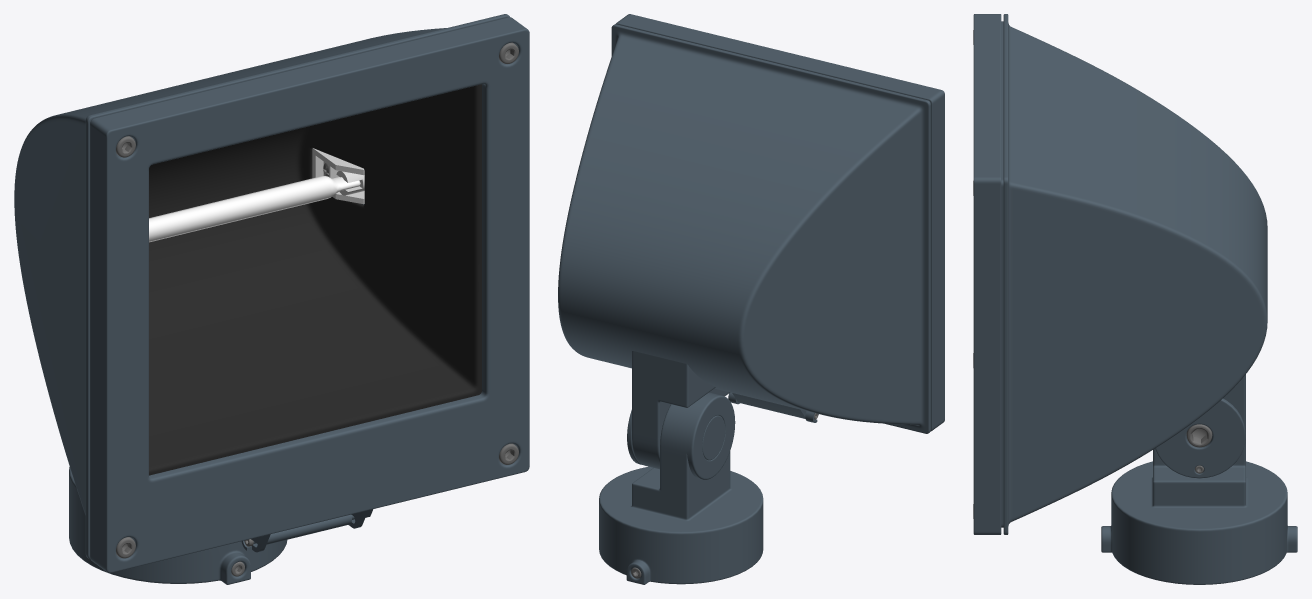
3 views of the same model, side by side, from view 1: azimuth 30°, elevation 25°; view 2: azimuth 150°, elevation 25°; view 3: azimuth 270°, elevation 25° (orthographic). The views are drawn at different scales.
Visible parts, largest first — view 1: body, base; view 2: body, base; view 3: body, base.
Part boxes in pixels (box(x1,y1,x2,y2)): body: box(14, 14, 529, 573); base: box(69, 467, 287, 584); body: box(558, 14, 944, 469); base: box(599, 392, 763, 584); body: box(973, 14, 1267, 534); base: box(1101, 398, 1297, 584).
Size of the model in its own units: 34 by 43.2 by 27.98.
